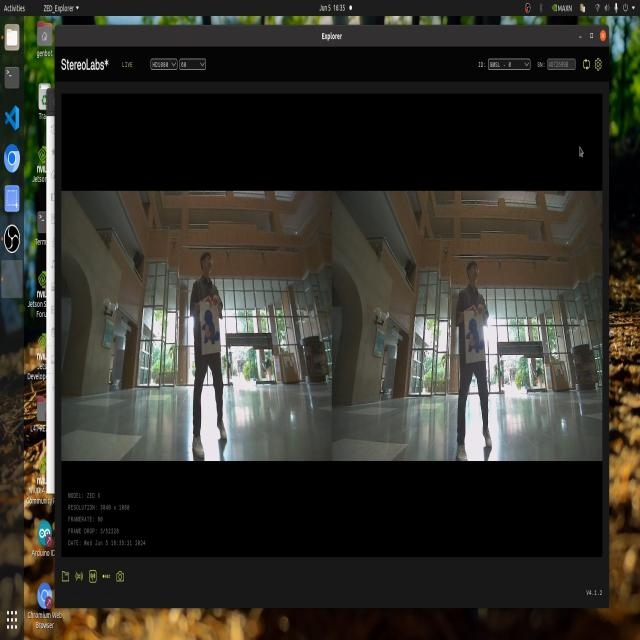blue: (201, 301, 222, 350), (464, 305, 483, 357)
